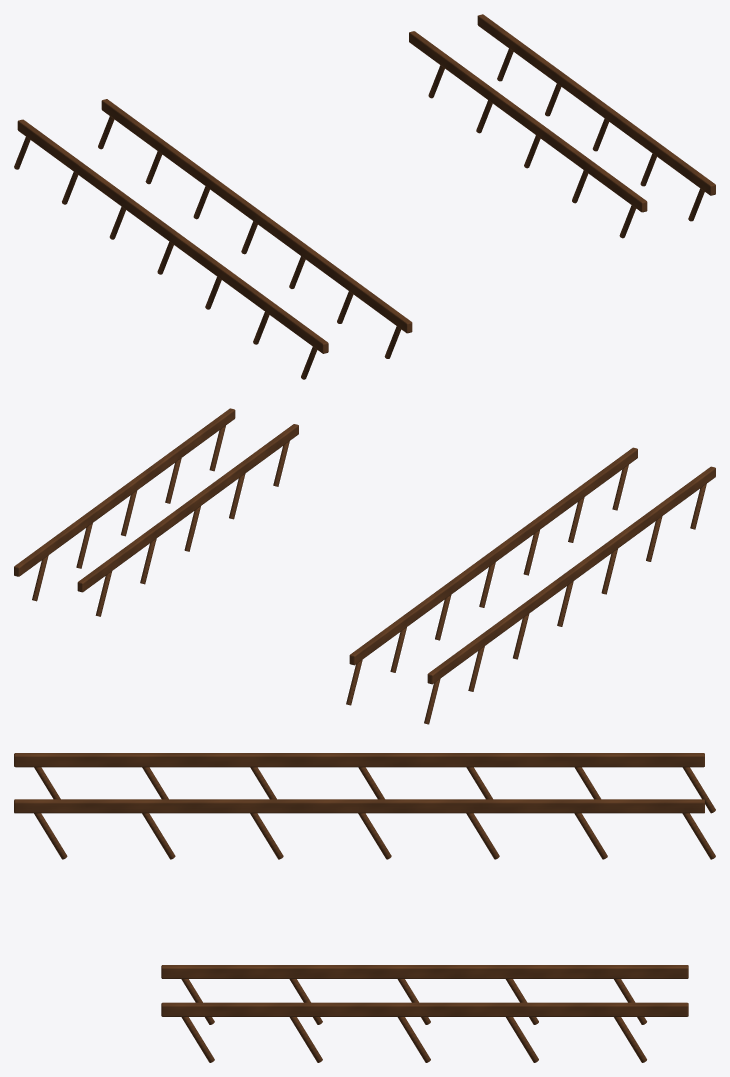
File: Pier_Structure.fbx
3 renders of one model, top to bottom at view 1: azimuth 30°, elevation 25°; view 2: azimuth 150°, elevation 25°; view 3: azimuth 270°, elevation 25°, orthographic. The views are drawn at different scales.
Parts seen in each view (by area): view 1: Pier_Structure; view 2: Pier_Structure; view 3: Pier_Structure.
Boxes of the visible parts, box(x1,y1,x2,y2) form: Pier_Structure: box(14, 14, 715, 379); Pier_Structure: box(14, 408, 715, 724); Pier_Structure: box(14, 753, 715, 1062).
Size of the model in its own units: 1828 by 2143 by 197.
